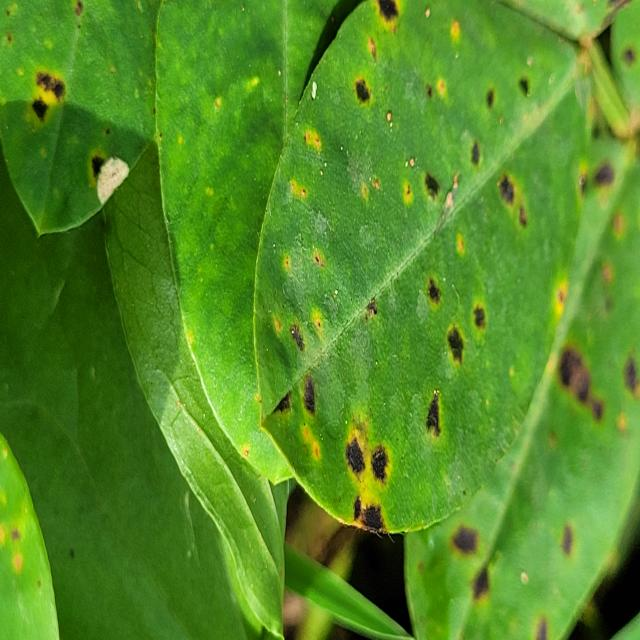Ground nut_tikka leaf spot: (254, 1, 595, 535), (157, 1, 391, 484), (0, 0, 156, 237)
